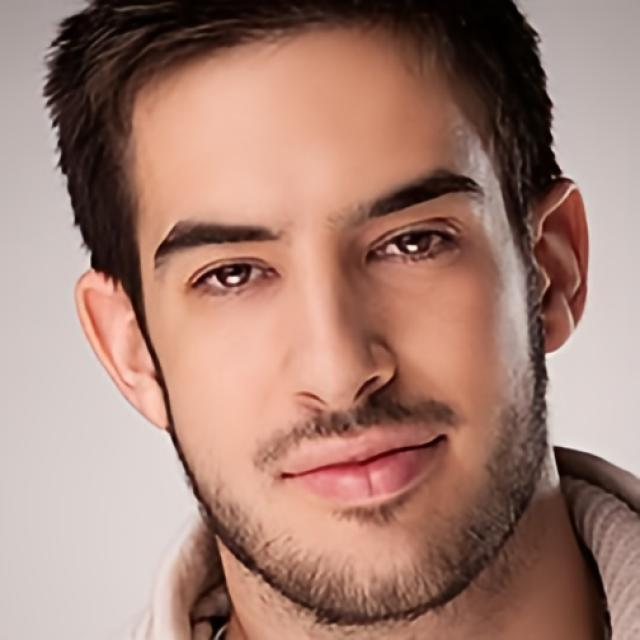content: (132, 26, 550, 620)
